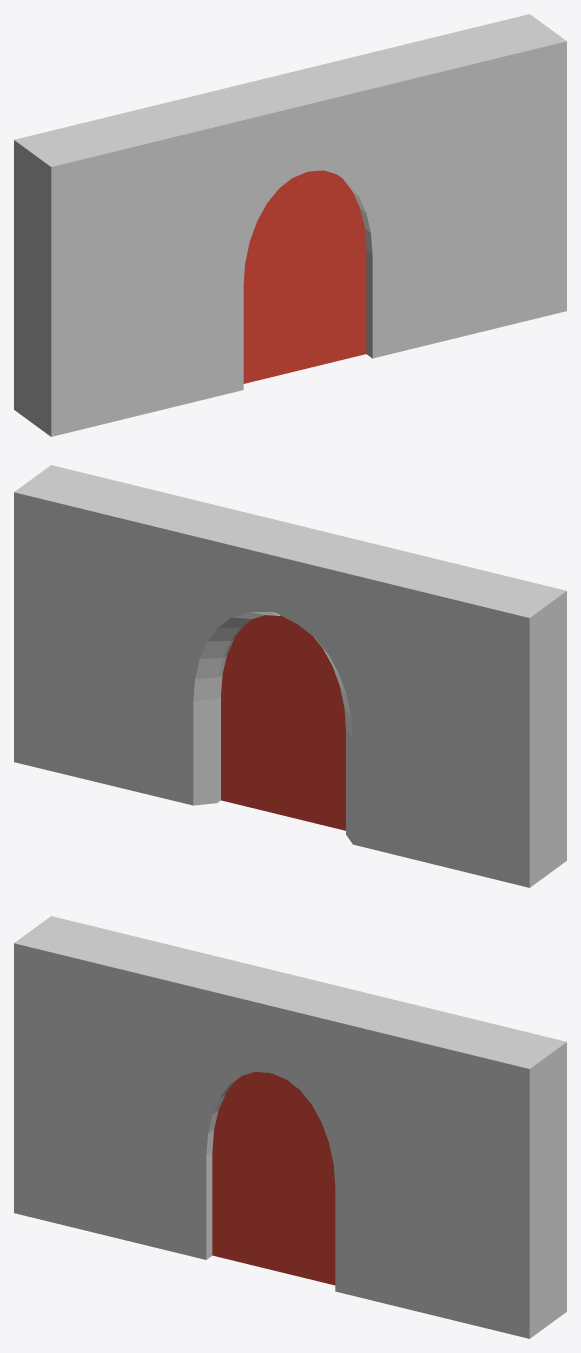
The model's file is castle_wall_door.fbx.
3 views of the same model, one above another, from view 1: azimuth 30°, elevation 25°; view 2: azimuth 150°, elevation 25°; view 3: azimuth 330°, elevation 25° (orthographic).
Visible parts, largest first — view 1: Cube.002; view 2: Cube.002; view 3: Cube.002.
Part boxes in pixels (box(x1,y1,x2,y2)): Cube.002: box(14, 14, 566, 436); Cube.002: box(14, 465, 566, 887); Cube.002: box(14, 916, 566, 1338).
Bounding box in the file's own units: 4800 × 2400 × 600.
